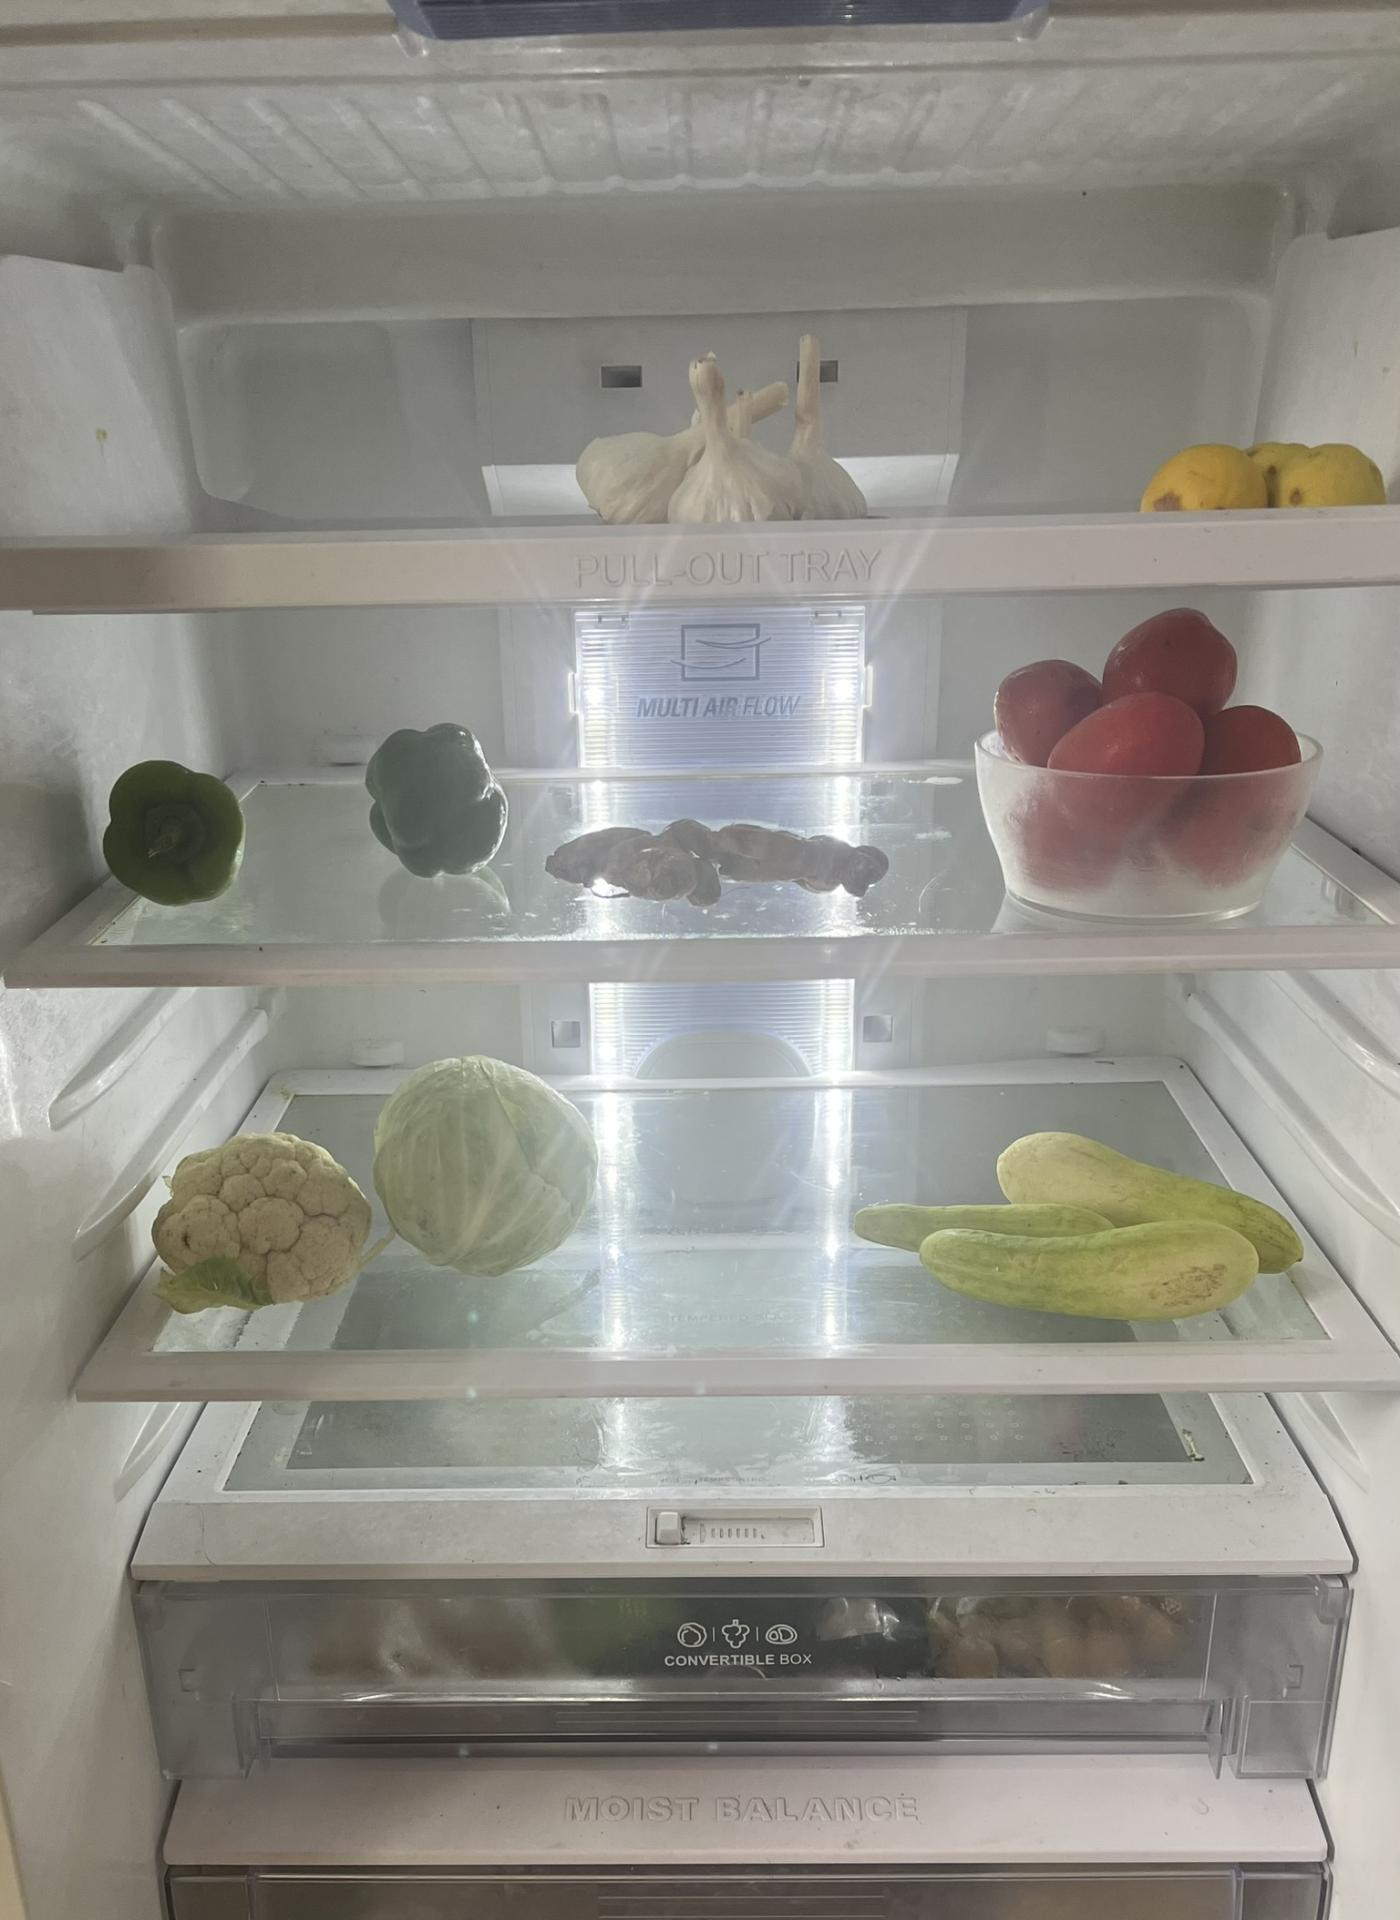cabbage: (379, 1052, 598, 1267)
capsicum: (367, 719, 511, 878), (104, 759, 245, 905)
cauliflower: (146, 1128, 373, 1309)
cucumber: (853, 1130, 1322, 1324)
garlic: (574, 334, 862, 525)
ginger: (550, 815, 887, 908)
lemon: (1141, 432, 1387, 514)
tomato: (991, 601, 1309, 890)
